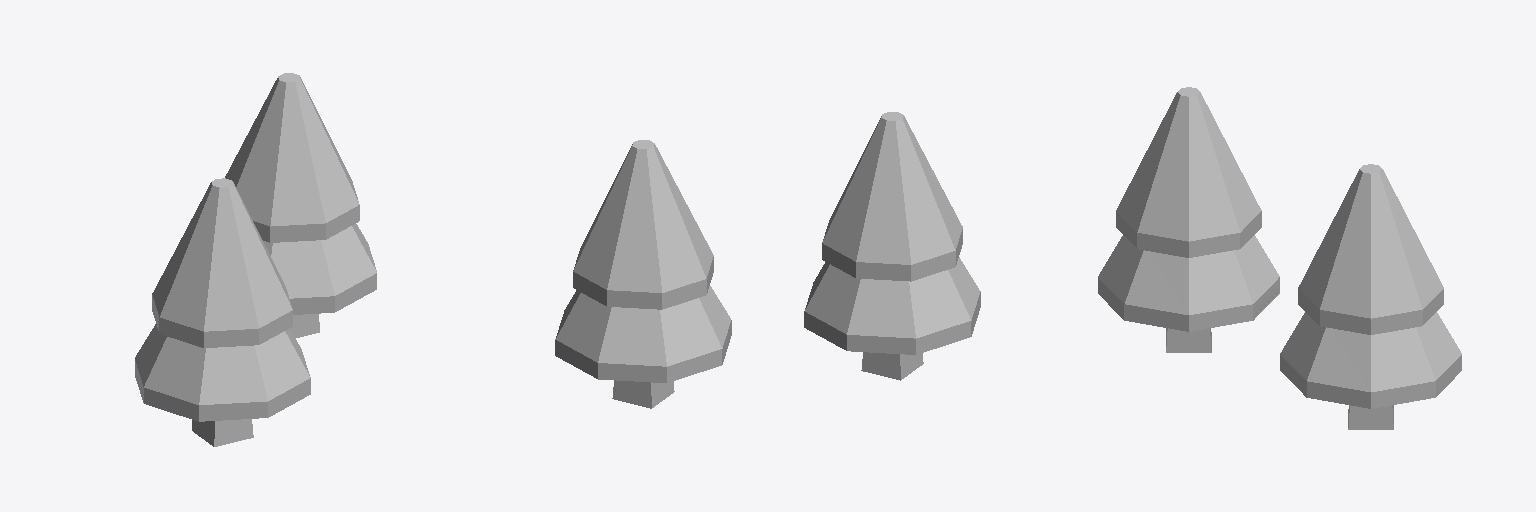
The model's file is green_tile_treeDouble.obj.
3 renders of one model, left to right at view 1: azimuth 30°, elevation 25°; view 2: azimuth 150°, elevation 25°; view 3: azimuth 270°, elevation 25°, orthographic.
Parts seen in each view (by area): view 1: tree; view 2: tree; view 3: tree.
Boxes of the visible parts, x1=… form: tree: x1=135, y1=73, x2=376, y2=446; tree: x1=555, y1=112, x2=980, y2=408; tree: x1=1098, y1=87, x2=1461, y2=429.
Size of the model in its own units: 1 by 0.76 by 1.